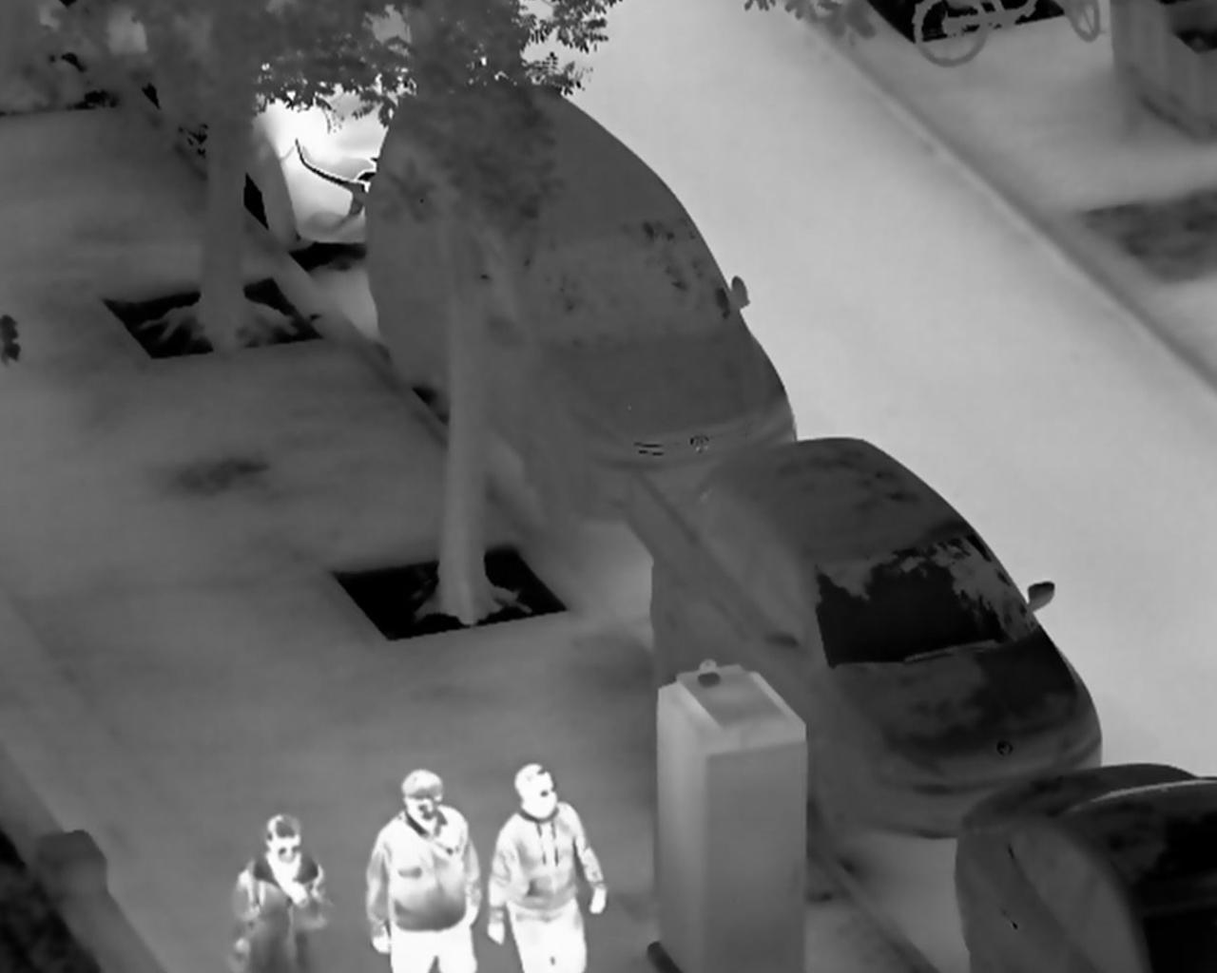person: (483, 759, 608, 973), (362, 769, 482, 973), (225, 810, 338, 973)
